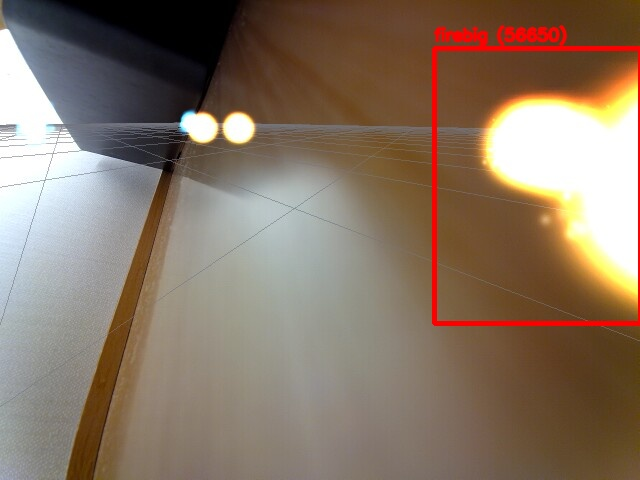firebig: (434, 48, 640, 323)
